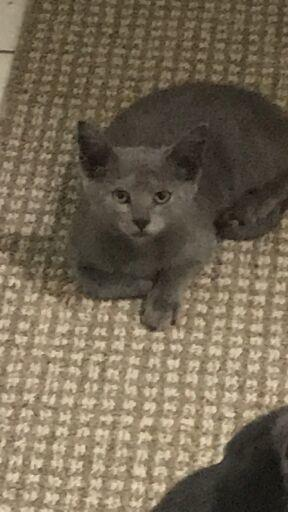rblue: (57, 87, 226, 274)
